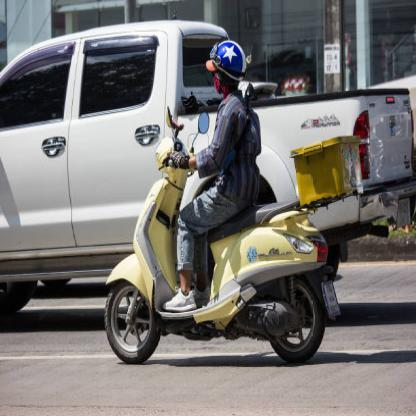Motorcycle: (100, 117, 338, 364)
